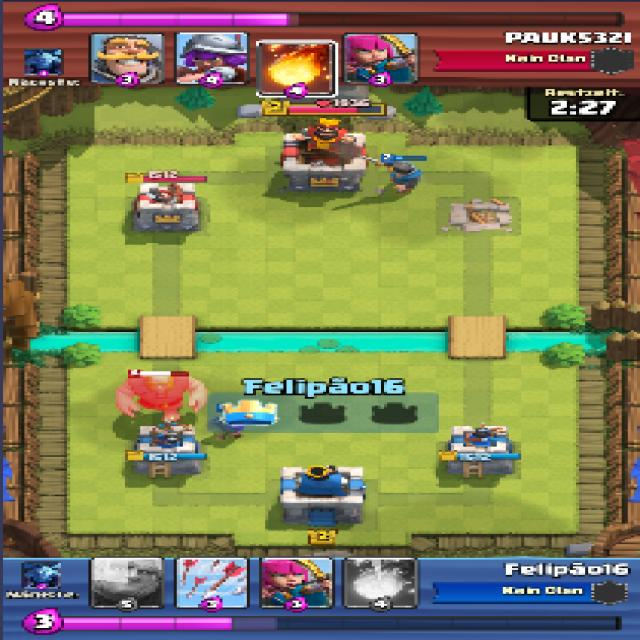Enemy-Giant: (114, 376, 205, 421)
Player-Knight: (373, 160, 420, 190)
Player-Musketeer: (208, 411, 245, 441)
